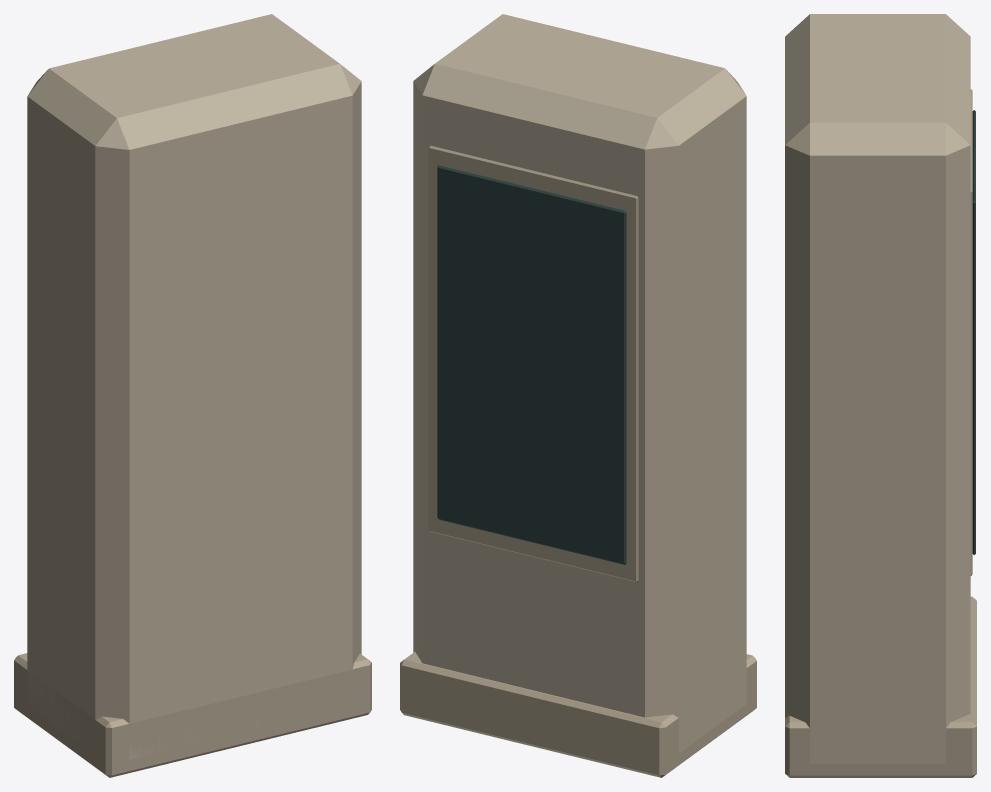
Rendered from kiosk.glb.
3 renders of one model, left to right at view 1: azimuth 30°, elevation 25°; view 2: azimuth 150°, elevation 25°; view 3: azimuth 270°, elevation 25°, orthographic.
Visible parts, largest first — view 1: body; view 2: body, screen; view 3: body, screen.
Part boxes in pixels (left/top/right/bottom): body: left=14, top=14, right=371, bottom=777; body: left=400, top=14, right=756, bottom=777; screen: left=437, top=165, right=626, bottom=564; body: left=785, top=14, right=976, bottom=777; screen: left=972, top=110, right=975, bottom=554.
Bounding box in the file's own units: 0.8 × 1.88 × 0.5.
